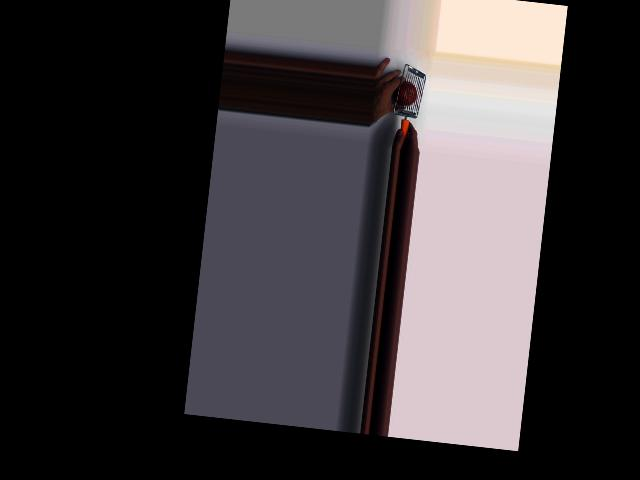tomato: (393, 81, 418, 107)
